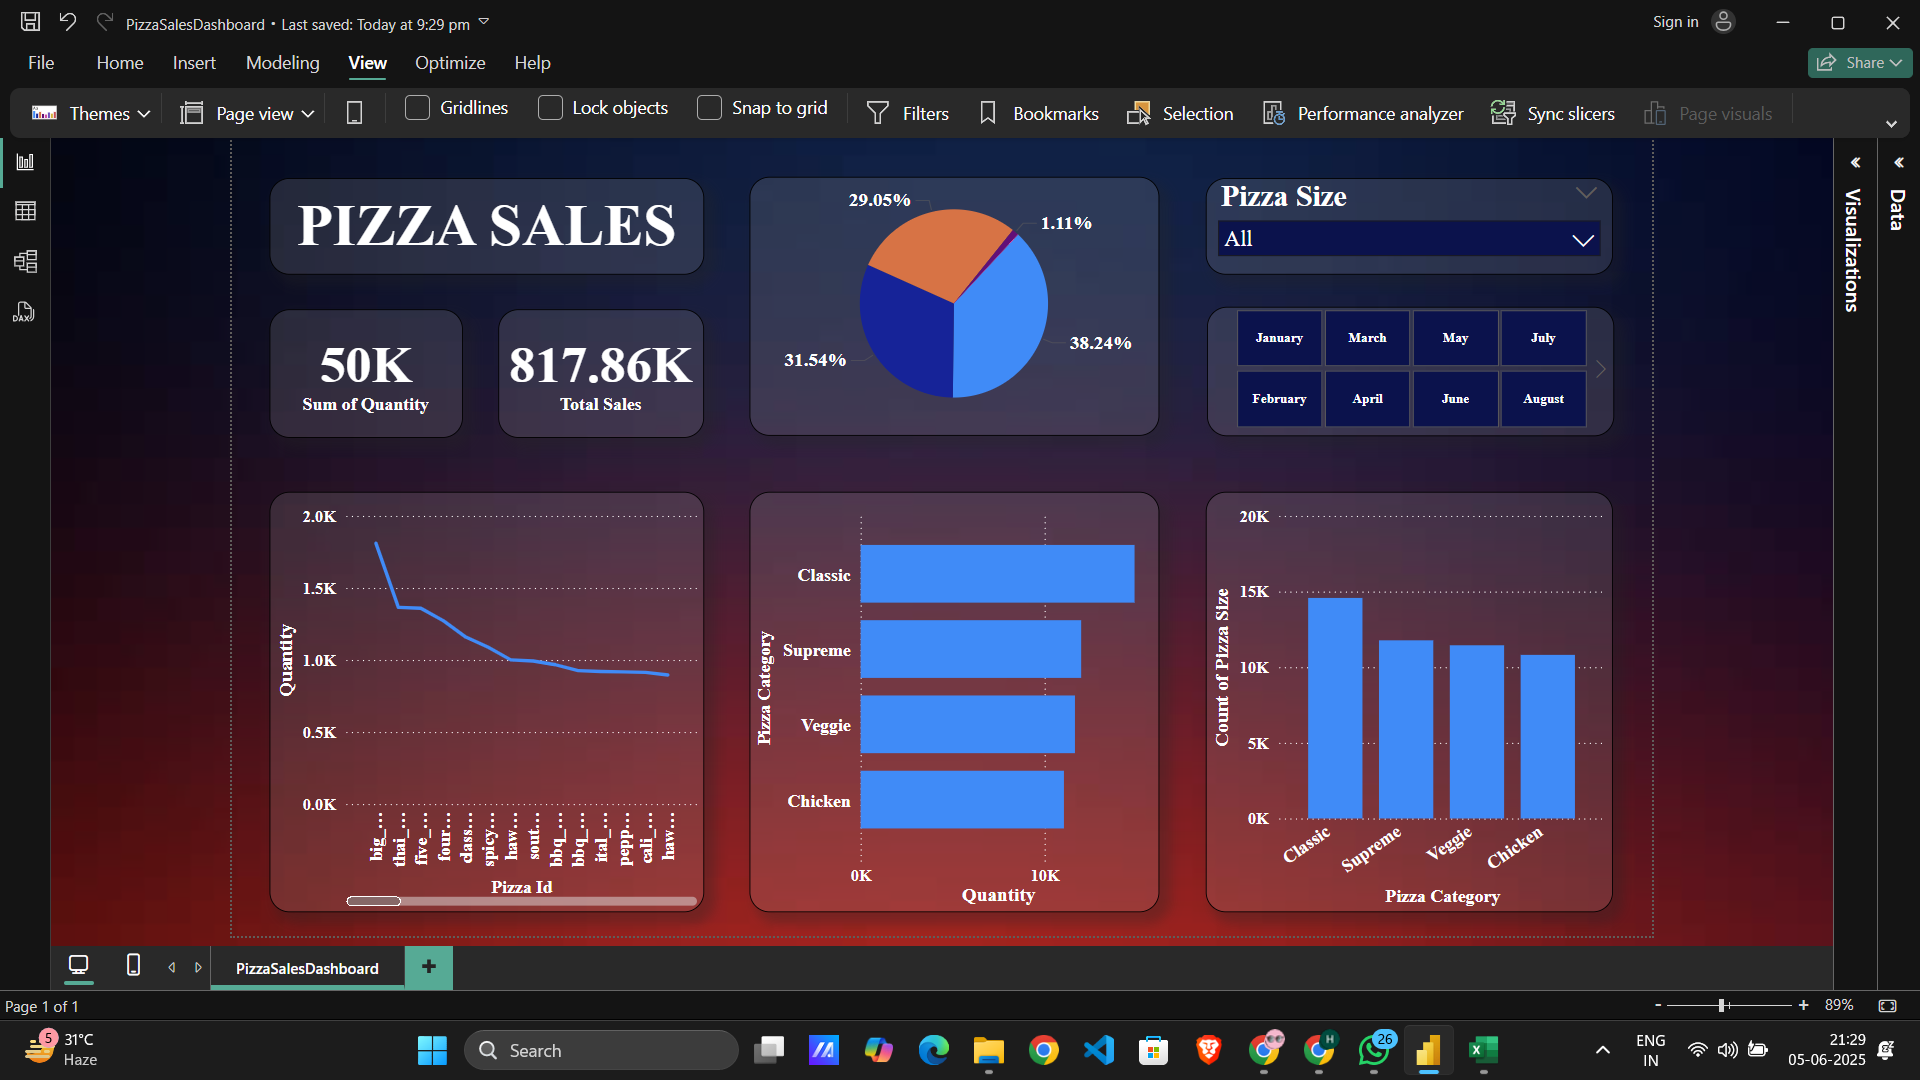

What the dashboard file says about the page in this screenshot:
{"tool":"powerbi","page":{"name":"PizzaSalesDashboard","canvas":[1280,720],"ordinal":0},"visuals":[{"type":"card","fields":{"Values":["Sum(pizza_sales.total_price)"]},"box":[240.1,154.3,185.3,115.7],"z":0},{"type":"card","fields":{"Values":["Sum(pizza_sales.quantity)"]},"box":[33.6,154.3,174.2,115.7],"z":1000},{"type":"textbox","box":[33.6,36.1,391.8,87.1],"z":2000},{"type":"clusteredBarChart","fields":{"Category":["pizza_sales.pizza_category"],"Y":["Sum(pizza_sales.quantity)"]},"box":[466.5,318.5,369.5,379.4],"z":3000},{"type":"clusteredColumnChart","fields":{"Category":["pizza_sales.pizza_category"],"Y":["CountNonNull(pizza_sales.pizza_size)"]},"box":[878.2,318.5,367,379.4],"z":4000},{"type":"lineChart","fields":{"Category":["pizza_sales.pizza_name_id"],"Y":["CountNonNull(pizza_sales.quantity)"]},"box":[33.6,318.5,391.8,379.4],"z":5000},{"type":"pieChart","fields":{"Y":["Sum(pizza_sales.quantity)"],"Series":["pizza_sales.pizza_size"]},"box":[466.5,34.8,369.5,233.9],"z":6000},{"type":"slicer","fields":{"Values":["pizza_sales.pizza_size"]},"box":[878.2,36.1,367,87.1],"z":7000},{"type":"slicer","fields":{"Values":["pizza_sales.order_date.Variation.Date Hierarchy.Month"]},"box":[879.5,151.8,367,116.9],"z":8000}]}

Visuals, with their boxes on the page's 1280x720 design canvas (x1, y1, x2, y2). These are canvas units, not pixel positions in the 1920x1080 screenshot, which may show the page scaled, cropped or inside an application window:
card - Sum(pizza_sales.total_price): <region>240, 154, 425, 270</region>
card - Sum(pizza_sales.quantity): <region>34, 154, 208, 270</region>
textbox: <region>34, 36, 425, 123</region>
clusteredBarChart - pizza_sales.pizza_category x Sum(pizza_sales.quantity): <region>466, 318, 836, 698</region>
clusteredColumnChart - pizza_sales.pizza_category x CountNonNull(pizza_sales.pizza_size): <region>878, 318, 1245, 698</region>
lineChart - pizza_sales.pizza_name_id x CountNonNull(pizza_sales.quantity): <region>34, 318, 425, 698</region>
pieChart - Sum(pizza_sales.quantity) x pizza_sales.pizza_size: <region>466, 35, 836, 269</region>
slicer - pizza_sales.pizza_size: <region>878, 36, 1245, 123</region>
slicer - pizza_sales.order_date.Variation.Date Hierarchy.Month: <region>880, 152, 1246, 269</region>
